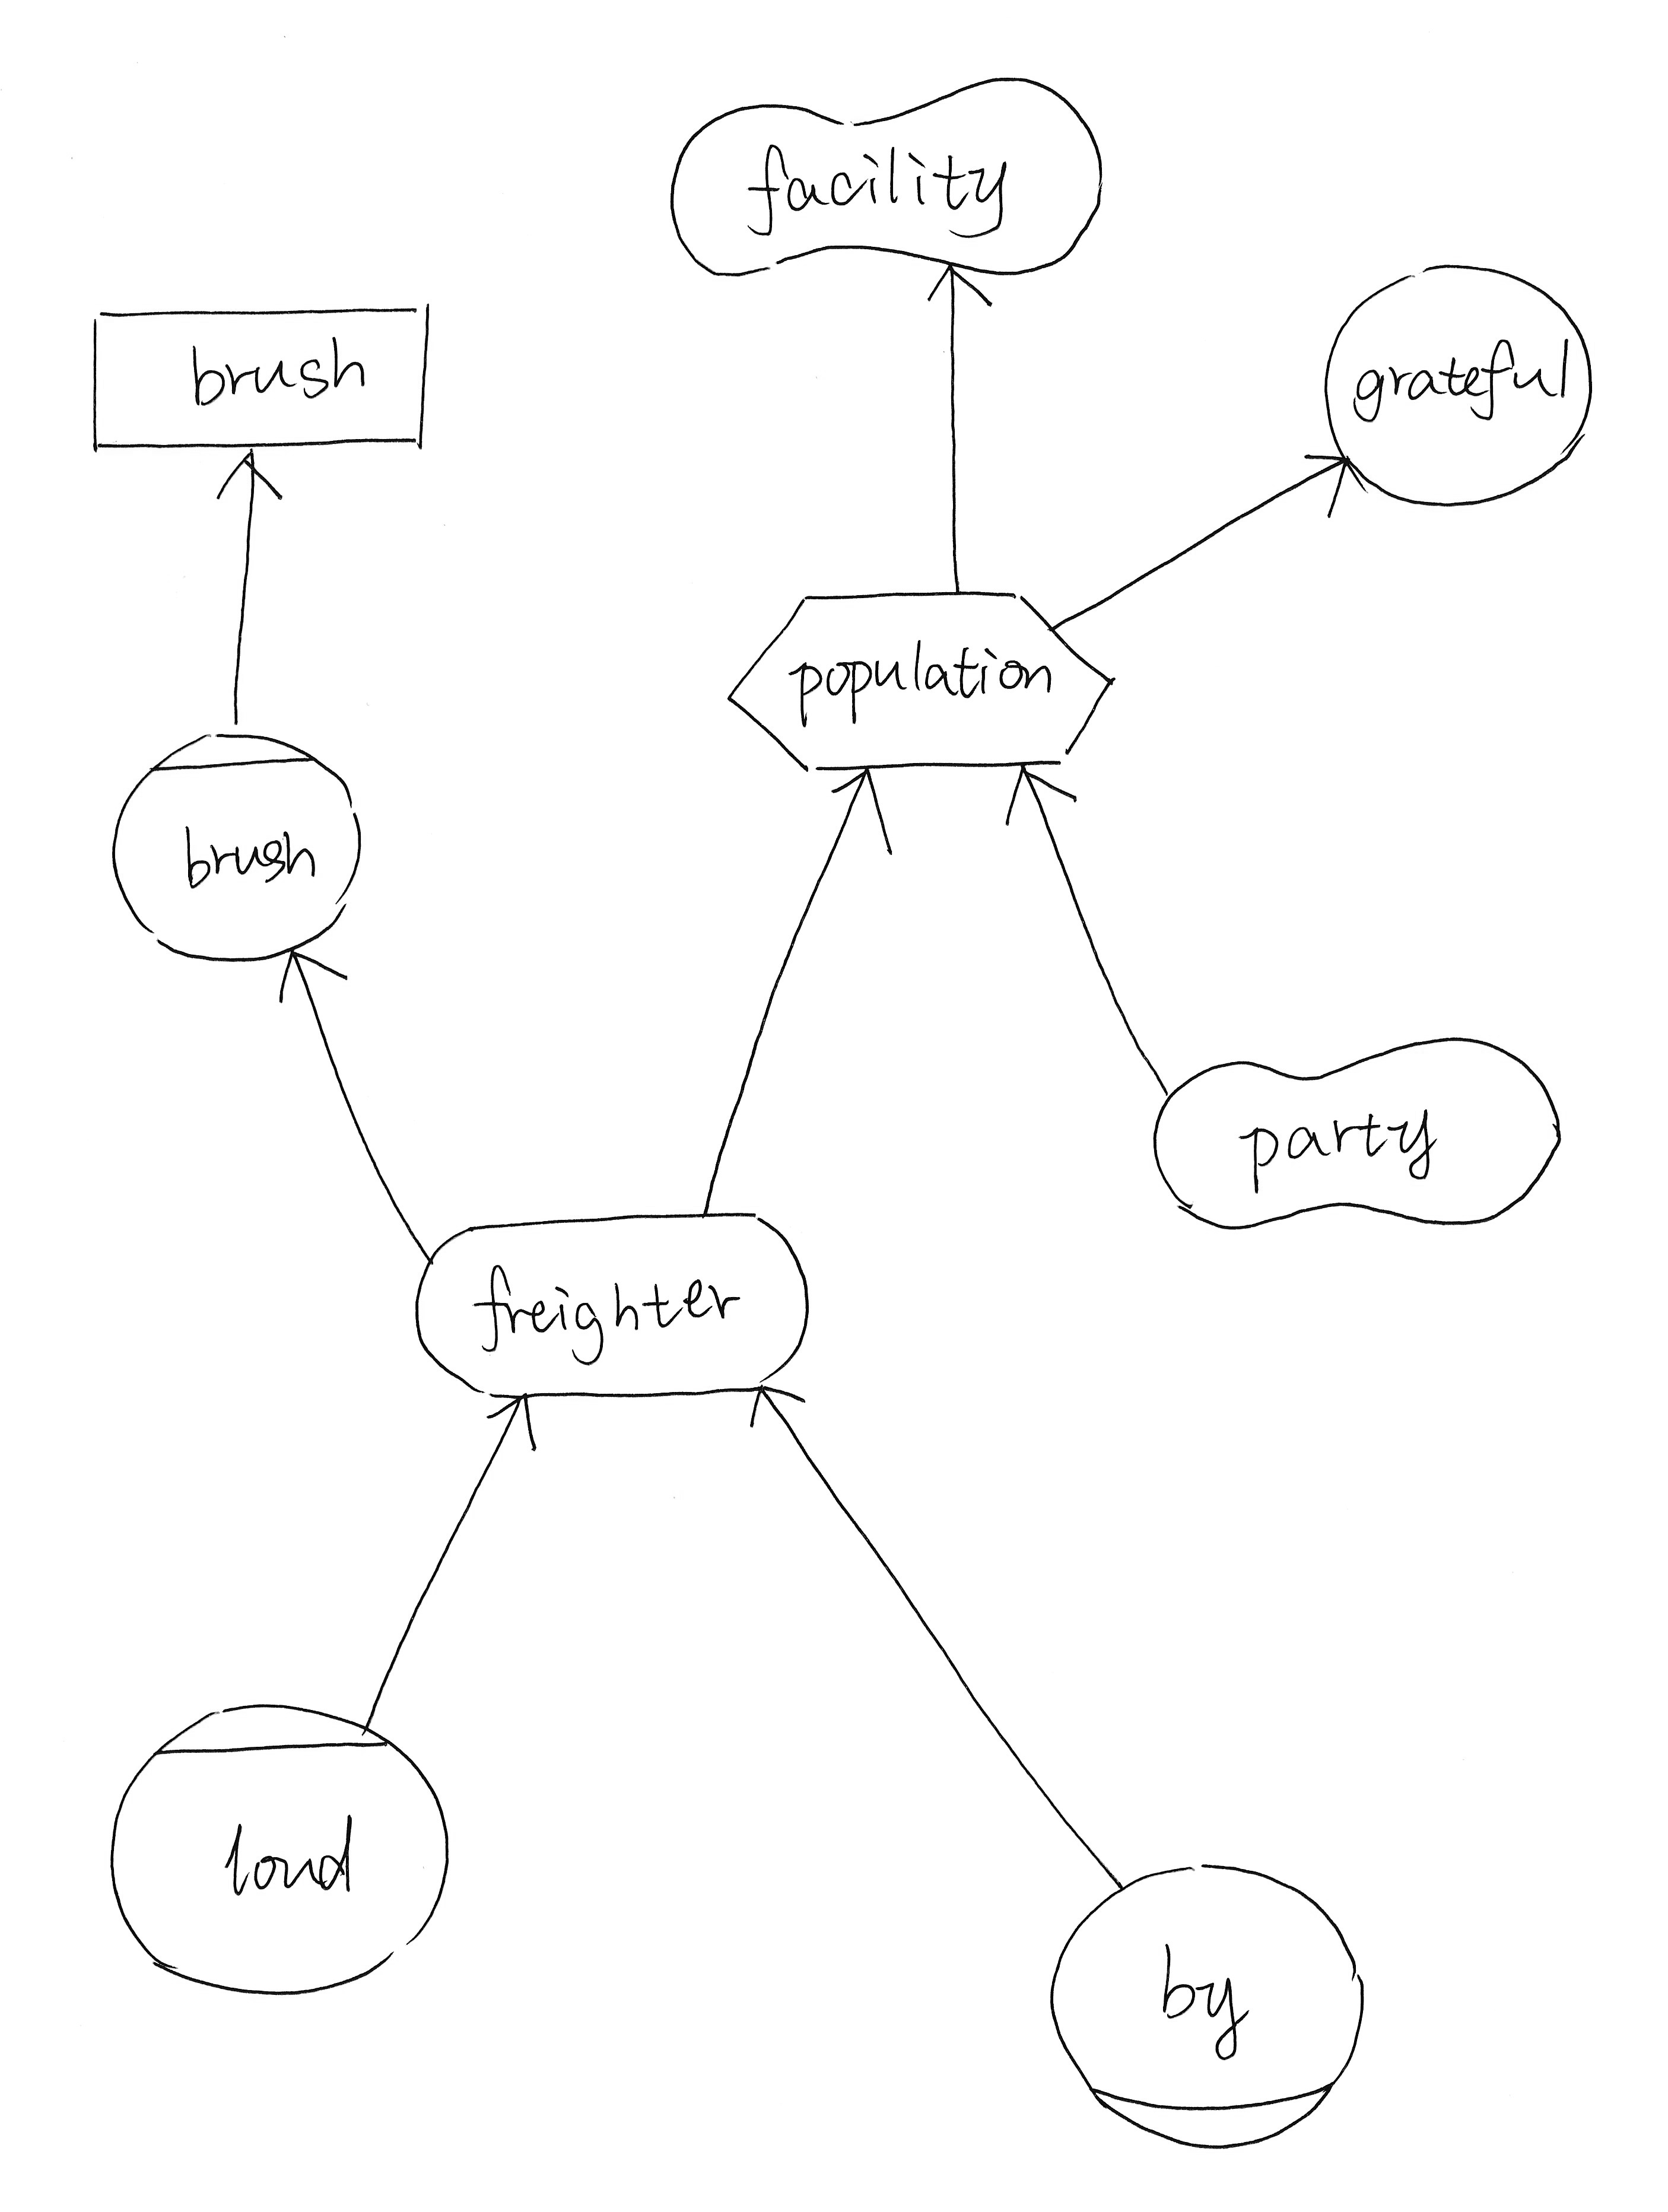actor: (1312, 247, 1603, 520)
agent: (98, 1680, 464, 2025), (91, 709, 382, 990)
arrow: (813, 762, 902, 876), (990, 755, 1092, 844), (261, 940, 364, 1014), (913, 252, 1011, 326), (1291, 436, 1365, 532), (473, 1389, 559, 1466), (736, 1378, 820, 1445), (210, 447, 293, 513)
goal: (394, 1184, 830, 1415)
quality: (647, 53, 1128, 303), (1141, 1009, 1584, 1256)
resource: (72, 282, 440, 468)
role: (1037, 1849, 1377, 2166)
task: (710, 569, 1125, 814)
